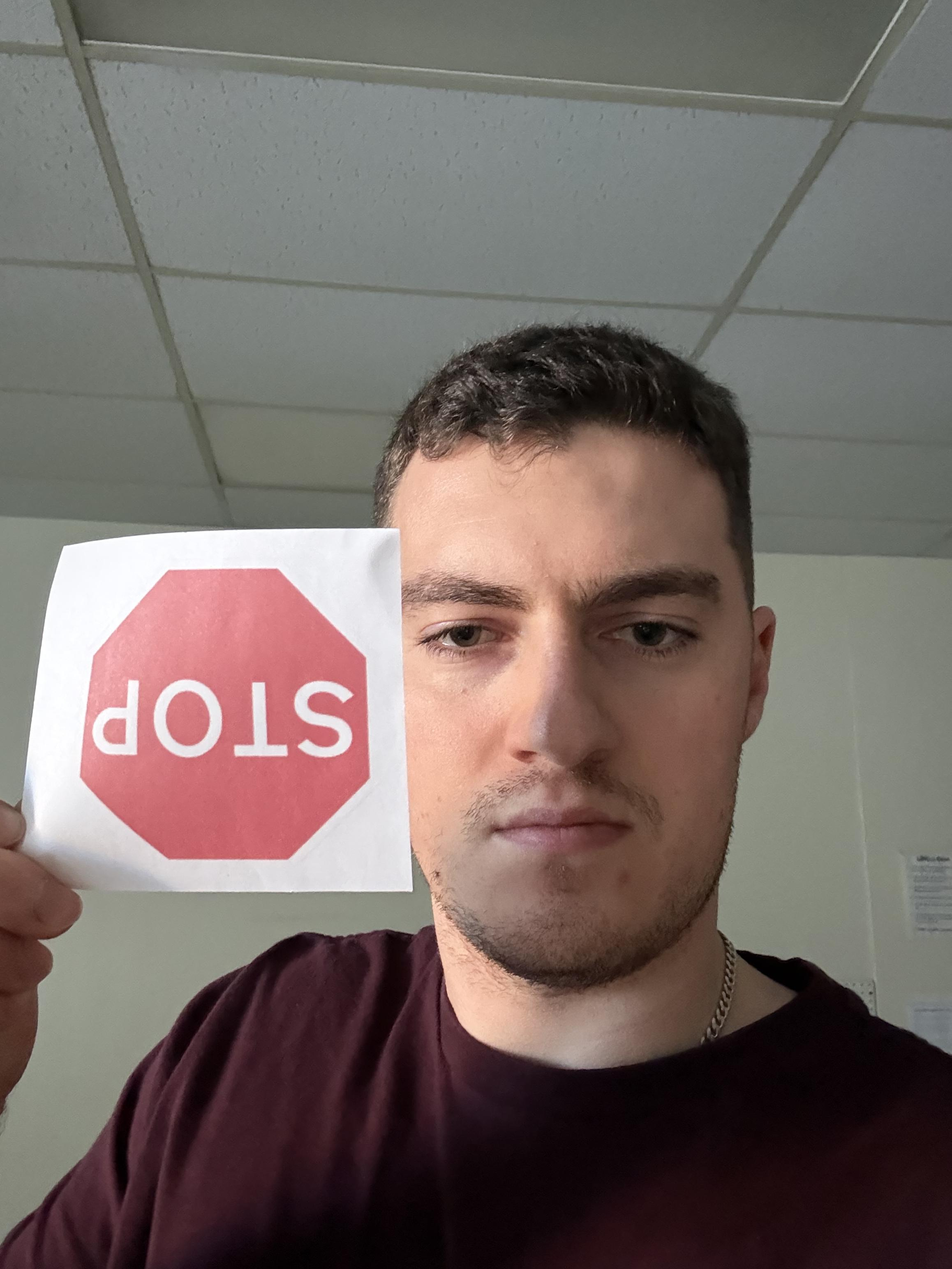Stop: (17, 701, 310, 1196)
